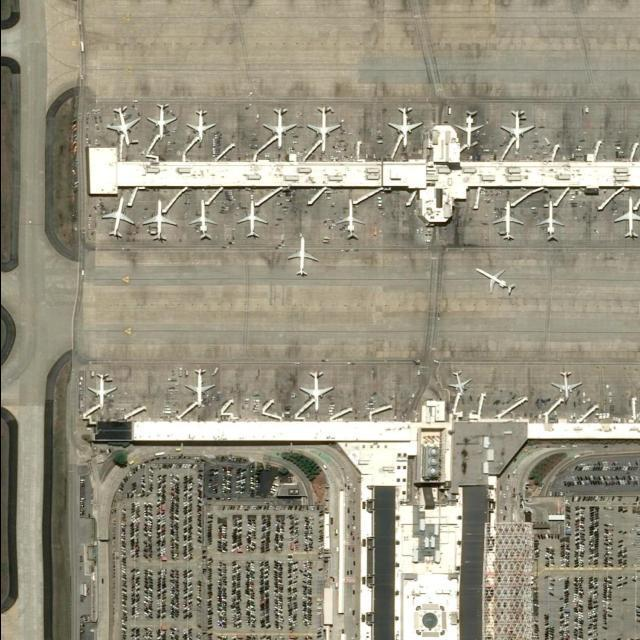Aircraft: (297, 371, 337, 415), (306, 106, 343, 153), (262, 108, 301, 151), (143, 200, 179, 244), (500, 110, 537, 152), (388, 108, 424, 150), (236, 197, 270, 241), (489, 202, 525, 243), (102, 198, 136, 240), (106, 106, 140, 148), (333, 200, 366, 243), (535, 201, 567, 245), (287, 236, 319, 279), (189, 199, 219, 244), (454, 110, 486, 152), (145, 102, 178, 142), (184, 370, 218, 408), (184, 108, 218, 146), (475, 267, 517, 297), (612, 197, 640, 240), (549, 371, 585, 404), (88, 374, 118, 412), (447, 371, 475, 397)
